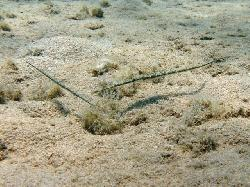Fistularia commersonii: (10, 43, 109, 119), (53, 60, 219, 89)
